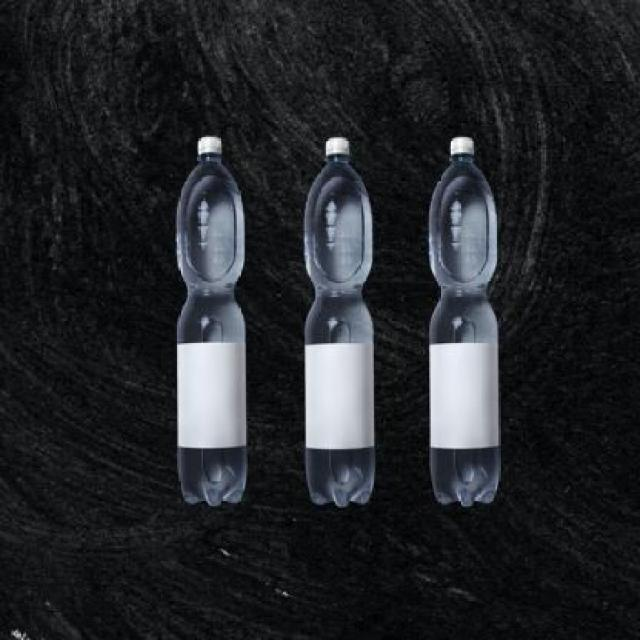bottle: (424, 127, 510, 525), (171, 129, 258, 522), (299, 128, 385, 524)
